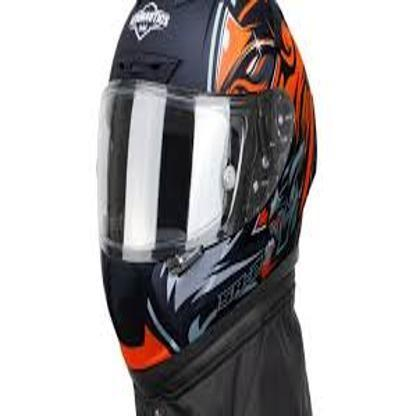not trash: (96, 0, 322, 396)
